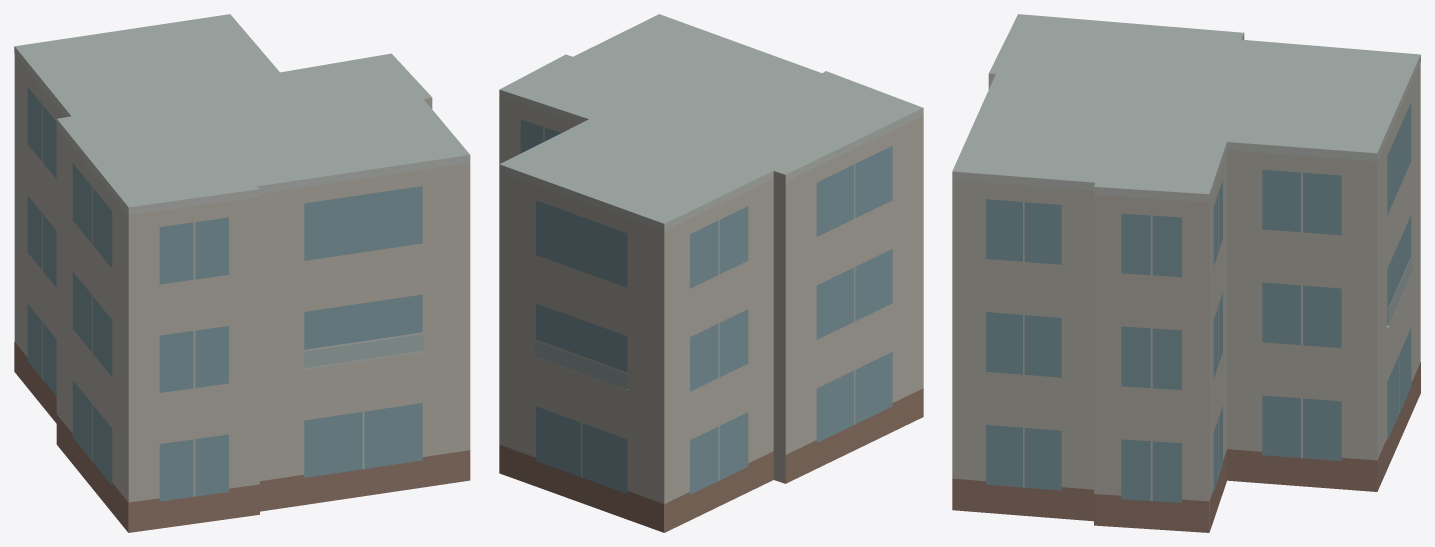
File: survey-upis-32788374.glb
The picture shows the model from 3 angles, left to right: view 1: azimuth 30°, elevation 25°; view 2: azimuth 150°, elevation 25°; view 3: azimuth 270°, elevation 25°; orthographic projection. The views are drawn at different scales.
Visible parts, largest first — view 1: survey-upis-32788374.tmp; view 2: survey-upis-32788374.tmp; view 3: survey-upis-32788374.tmp.
Boxes of the visible parts, <box> form: survey-upis-32788374.tmp: <box>14,14,470,532</box>; survey-upis-32788374.tmp: <box>499,14,923,532</box>; survey-upis-32788374.tmp: <box>952,14,1420,532</box>.
Bounding box in the file's own units: 11.65 × 10.2 × 12.8.
